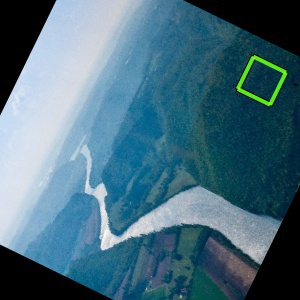square: (234, 52, 290, 109)
